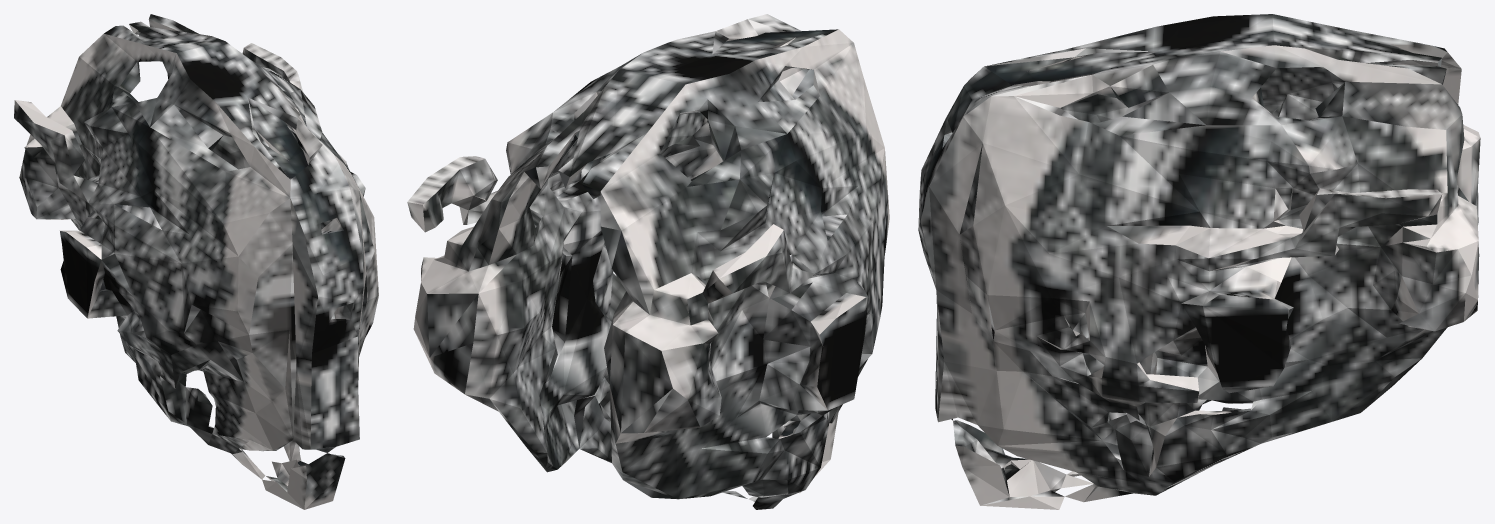
3 views of the same model, side by side, from view 1: azimuth 30°, elevation 25°; view 2: azimuth 150°, elevation 25°; view 3: azimuth 270°, elevation 25° (orthographic). The views are drawn at different scales.
Parts seen in each view (by area): view 1: textured; view 2: textured; view 3: textured.
Boxes of the visible parts, <box> form: textured: <box>14,14,378,509</box>; textured: <box>407,14,889,509</box>; textured: <box>918,14,1480,509</box>.
Size of the model in its own units: 0.7074 by 0.9193 by 1.
Materials: 1 (1 with a texture image).
